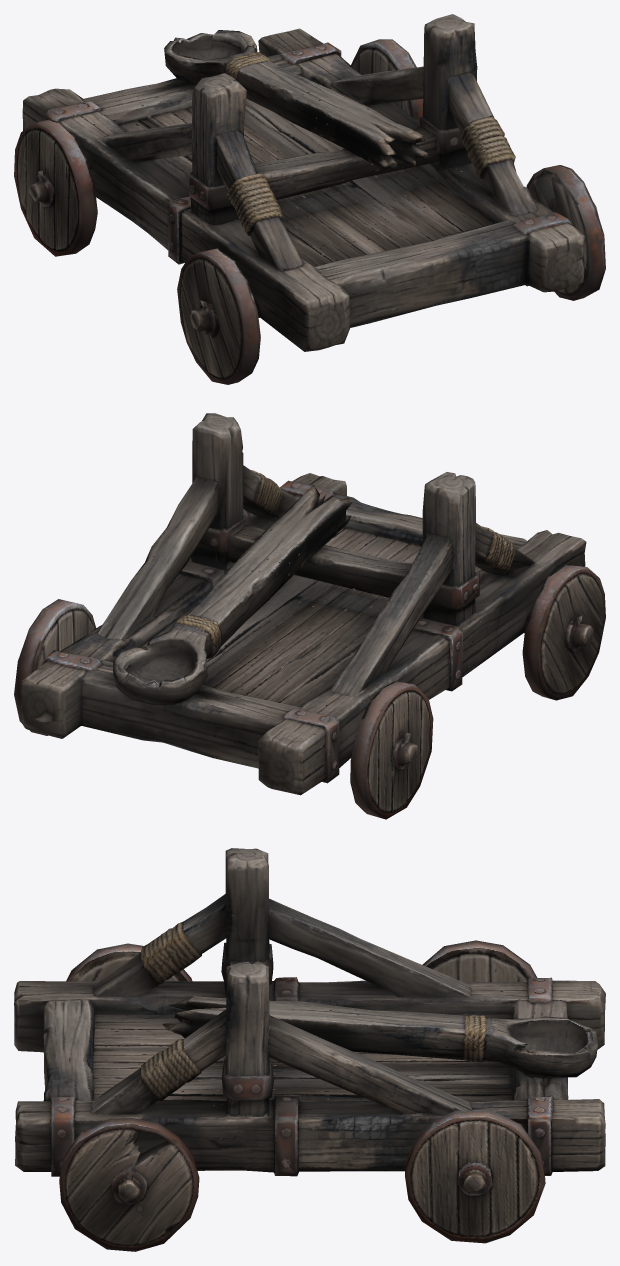
Rendered from SiegeWreck.gltf.
The picture shows the model from 3 angles, top to bottom: view 1: azimuth 30°, elevation 25°; view 2: azimuth 150°, elevation 25°; view 3: azimuth 270°, elevation 25°; orthographic projection. The views are drawn at different scales.
Visible parts, largest first — view 1: lo; view 2: lo; view 3: lo.
Part boxes in pixels (x1,y1,x2,y2): lo: (14,14,605,384); lo: (14,413,605,819); lo: (14,848,605,1251).
Size of the model in its own units: 3.76 by 2.24 by 4.79.
Materials: 1 (1 with a texture image).
